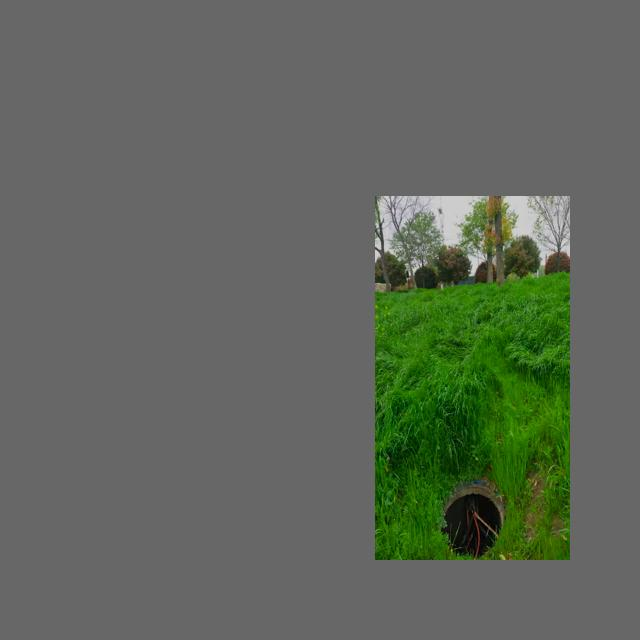lose: (440, 483, 509, 560)
